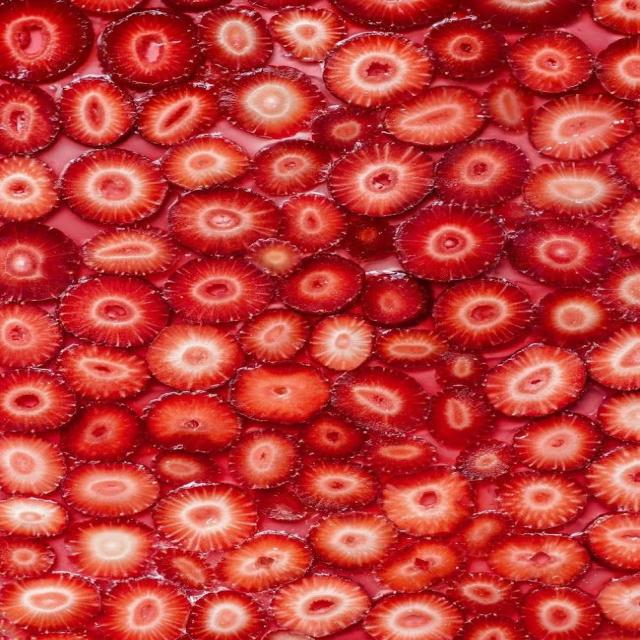strawberry sliced: (394, 205, 504, 281), (98, 9, 200, 89), (323, 33, 433, 107), (60, 148, 167, 224), (327, 143, 434, 216), (0, 0, 93, 83), (59, 276, 167, 347), (169, 187, 279, 255), (219, 67, 324, 138), (510, 217, 616, 287), (164, 256, 272, 323), (486, 344, 586, 416), (529, 94, 634, 160), (153, 484, 256, 551), (433, 279, 531, 349), (146, 324, 244, 390), (382, 466, 473, 536), (436, 140, 529, 208), (0, 222, 78, 302), (272, 574, 370, 637), (332, 367, 426, 432), (384, 86, 484, 147), (230, 362, 329, 423), (143, 391, 240, 452), (523, 162, 627, 218), (216, 532, 313, 592), (0, 573, 100, 631), (99, 578, 190, 639), (58, 76, 135, 147), (58, 342, 150, 400), (509, 31, 593, 93), (65, 520, 153, 579), (513, 412, 601, 471), (278, 254, 364, 314), (64, 463, 159, 517), (488, 534, 588, 585), (425, 17, 507, 79), (497, 472, 586, 529), (137, 84, 218, 145), (310, 513, 396, 570), (161, 134, 250, 189), (533, 289, 616, 347), (364, 591, 462, 639), (376, 538, 463, 592), (199, 7, 272, 71), (81, 227, 178, 275), (0, 369, 75, 431), (61, 403, 140, 461), (253, 139, 331, 195), (295, 460, 378, 511), (520, 587, 600, 639), (269, 7, 346, 61), (228, 430, 299, 488), (0, 83, 58, 154), (428, 386, 495, 447), (0, 304, 63, 368), (0, 434, 65, 495), (280, 193, 346, 253), (360, 272, 431, 326), (332, 0, 455, 31), (0, 156, 58, 221), (238, 309, 309, 361), (189, 590, 264, 639), (308, 315, 373, 371), (585, 444, 639, 511), (464, 0, 584, 30), (586, 324, 639, 390), (311, 105, 380, 152), (585, 512, 639, 571), (302, 411, 366, 458), (366, 434, 436, 476), (375, 328, 447, 368), (483, 78, 534, 132), (597, 256, 639, 321), (0, 497, 68, 537), (596, 37, 639, 100), (452, 572, 518, 613), (154, 548, 216, 590), (458, 511, 512, 557), (0, 536, 56, 580), (597, 574, 639, 631), (153, 450, 219, 486), (456, 440, 514, 480), (343, 216, 393, 261), (246, 238, 302, 278), (598, 392, 640, 443), (435, 350, 487, 387), (0, 618, 89, 639), (257, 486, 308, 522), (591, 0, 639, 35), (457, 614, 524, 639), (609, 197, 639, 251), (491, 197, 538, 230), (612, 134, 639, 189), (69, 0, 141, 17), (263, 630, 313, 639)
